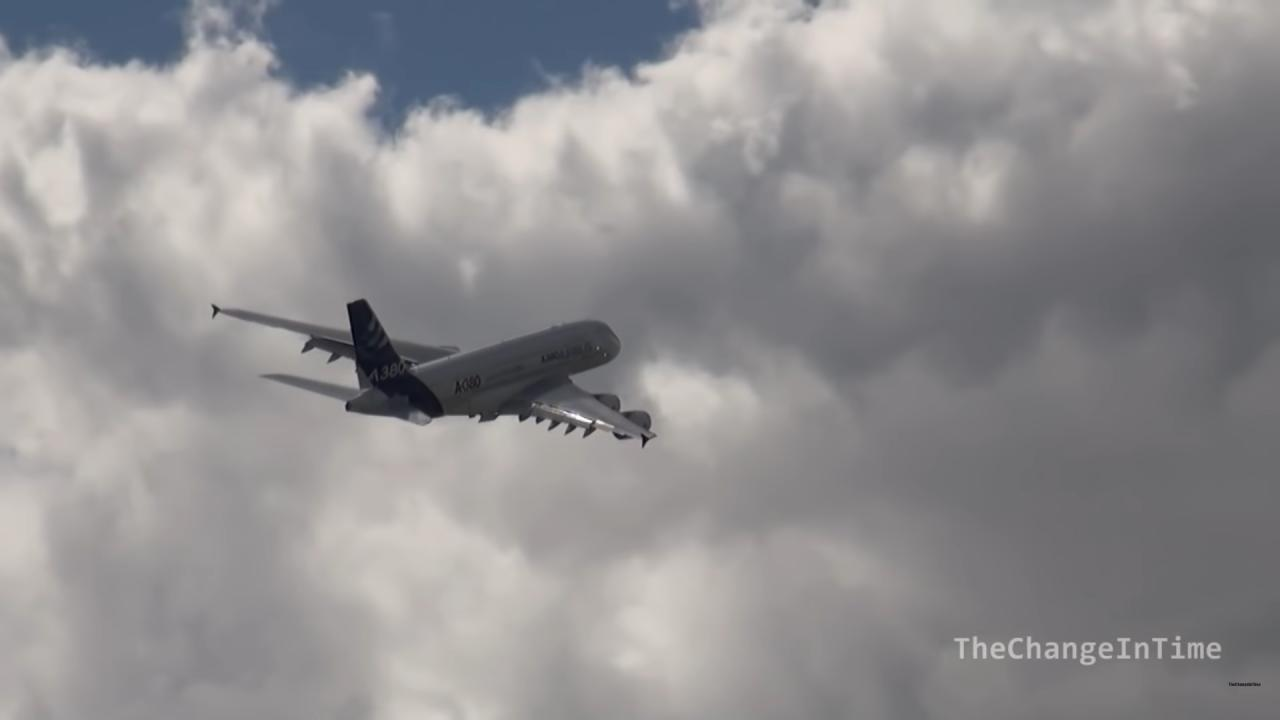Airplane: (200, 285, 666, 455)
